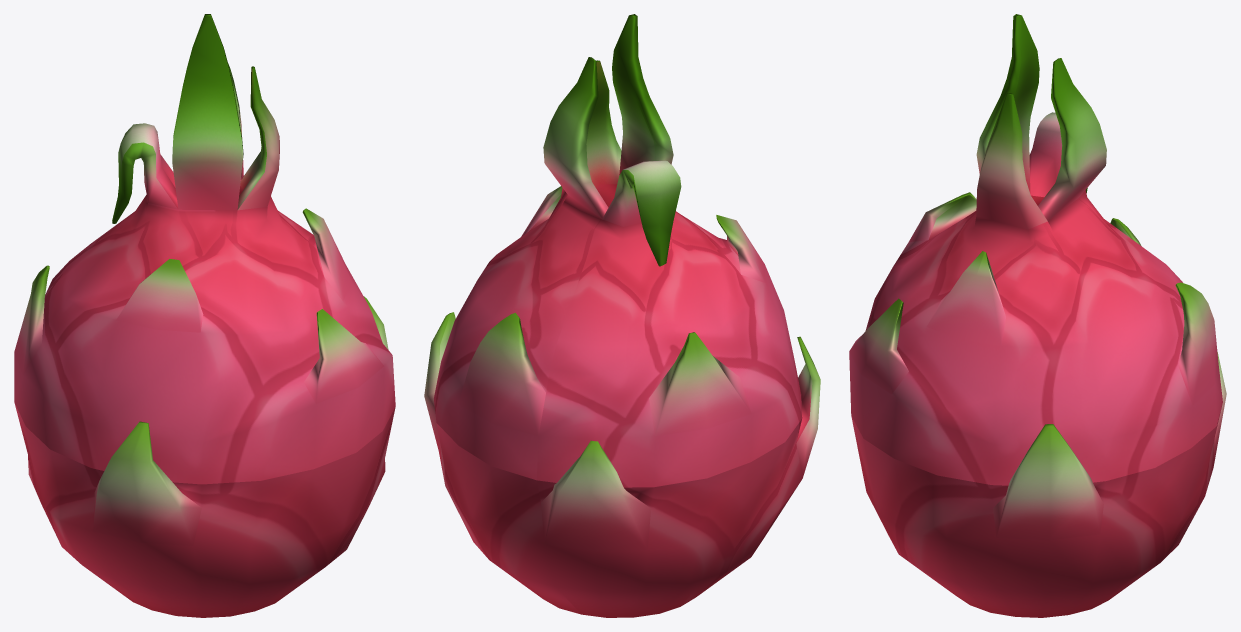
File: Dragonfruit_Sliced.fbx
The picture shows the model from 3 angles, left to right: view 1: azimuth 30°, elevation 25°; view 2: azimuth 150°, elevation 25°; view 3: azimuth 270°, elevation 25°; orthographic projection. The views are drawn at different scales.
Parts seen in each view (by area): view 1: Dragonfruit_Top, Dragonfruit_Bottom; view 2: Dragonfruit_Top, Dragonfruit_Bottom; view 3: Dragonfruit_Top, Dragonfruit_Bottom.
Part boxes in pixels (bbox=[...]): Dragonfruit_Top: bbox=[14, 14, 395, 484]; Dragonfruit_Bottom: bbox=[14, 296, 395, 617]; Dragonfruit_Top: bbox=[434, 14, 802, 487]; Dragonfruit_Bottom: bbox=[424, 312, 820, 617]; Dragonfruit_Top: bbox=[849, 14, 1222, 485]; Dragonfruit_Bottom: bbox=[851, 352, 1226, 617].
Size of the model in its own units: 43.34 by 73.81 by 42.7.
